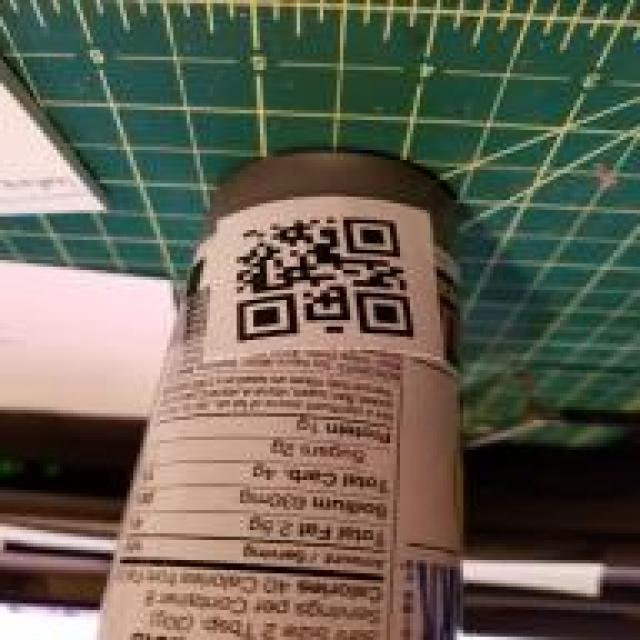QR_CODE: (228, 202, 427, 360)
